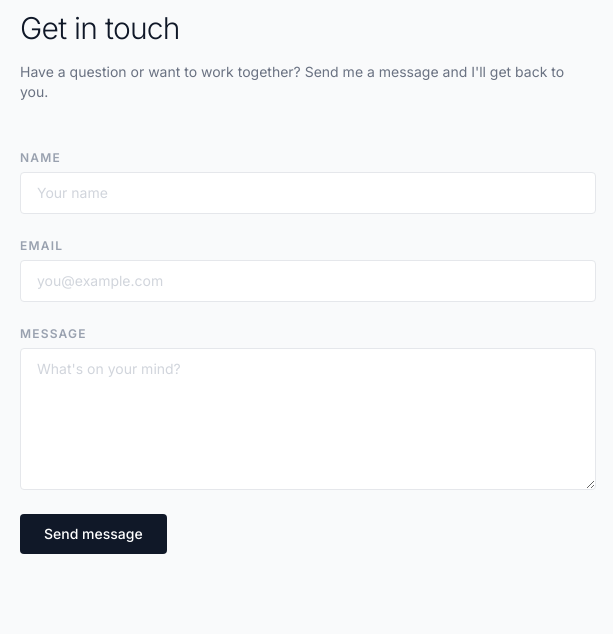
Test: Contact component › should show validation errors when submitted with empty fields
Step 1. Click the button "Send message" → (93,534), box [20,514,167,554]
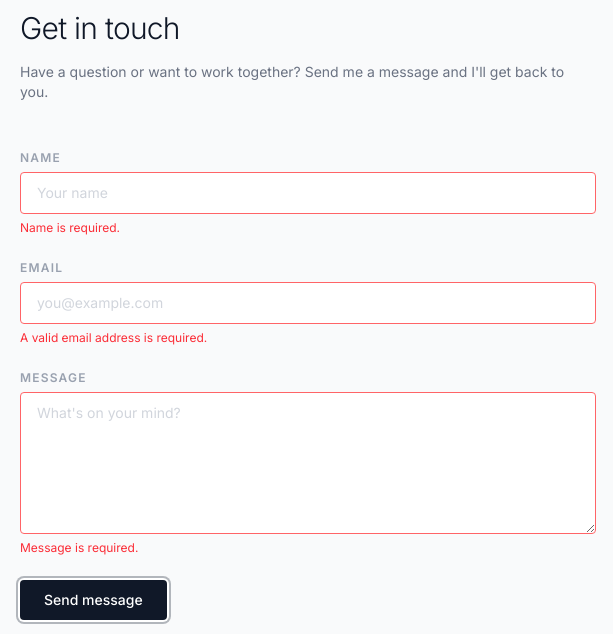
Check: the text "Name is required." is shown, box [20,220,120,235]
Check: the text "A valid email address is required." is shown, box [20,330,207,345]
Check: the text "Message is required." is shown, box [20,540,138,555]
